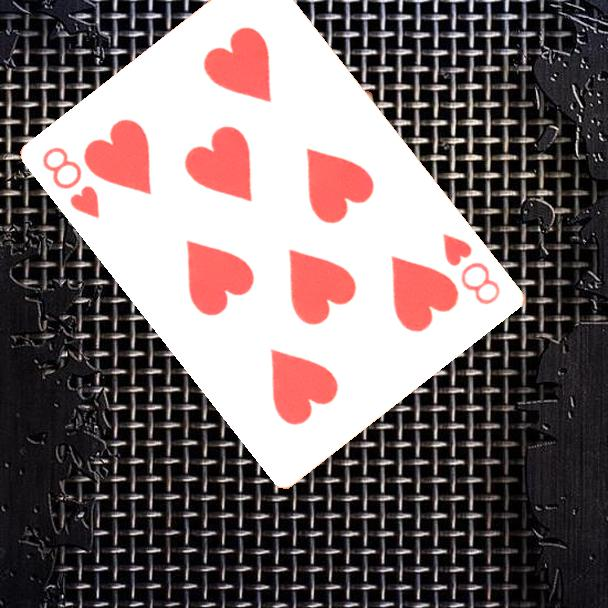h08: (39, 143, 104, 222), (439, 230, 504, 308)
